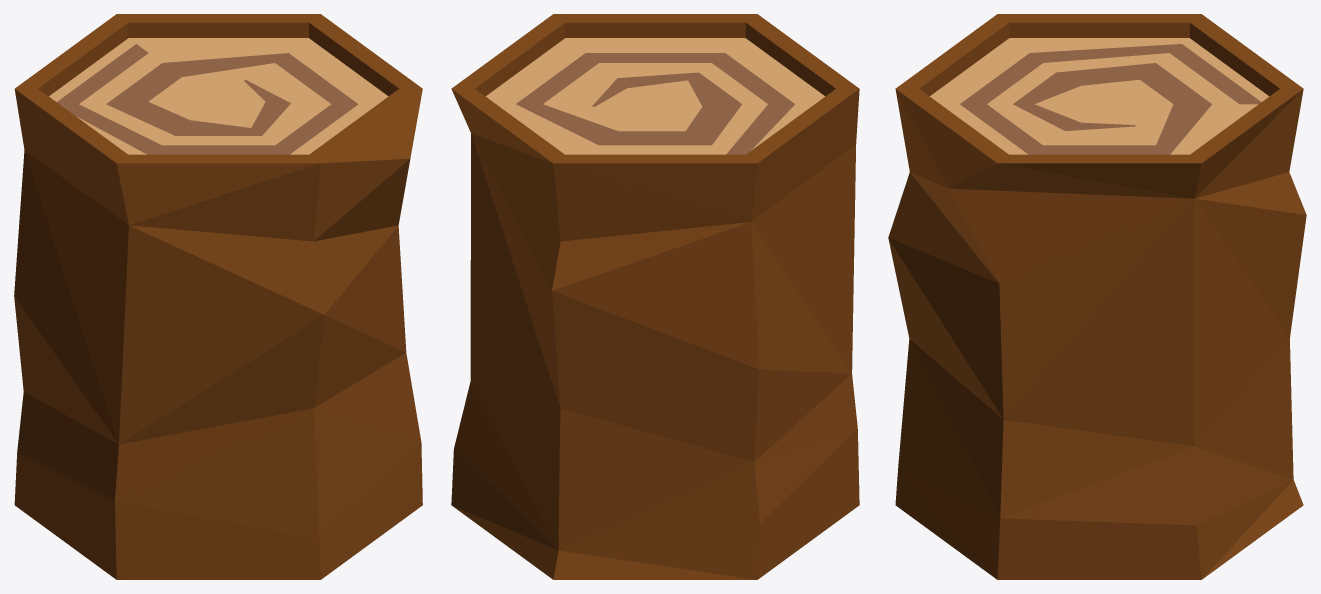
Rendered from tree_log.fbx.
3 renders of one model, left to right at view 1: azimuth 30°, elevation 25°; view 2: azimuth 150°, elevation 25°; view 3: azimuth 270°, elevation 25°, orthographic.
Parts seen in each view (by area): view 1: Cylinder.002; view 2: Cylinder.002; view 3: Cylinder.002.
Part boxes in pixels (left/top/right/bottom): Cylinder.002: left=14, top=14, right=422, bottom=579; Cylinder.002: left=451, top=14, right=859, bottom=579; Cylinder.002: left=888, top=14, right=1306, bottom=579.
Size of the model in its own units: 1.16 by 1.5 by 1.37.
